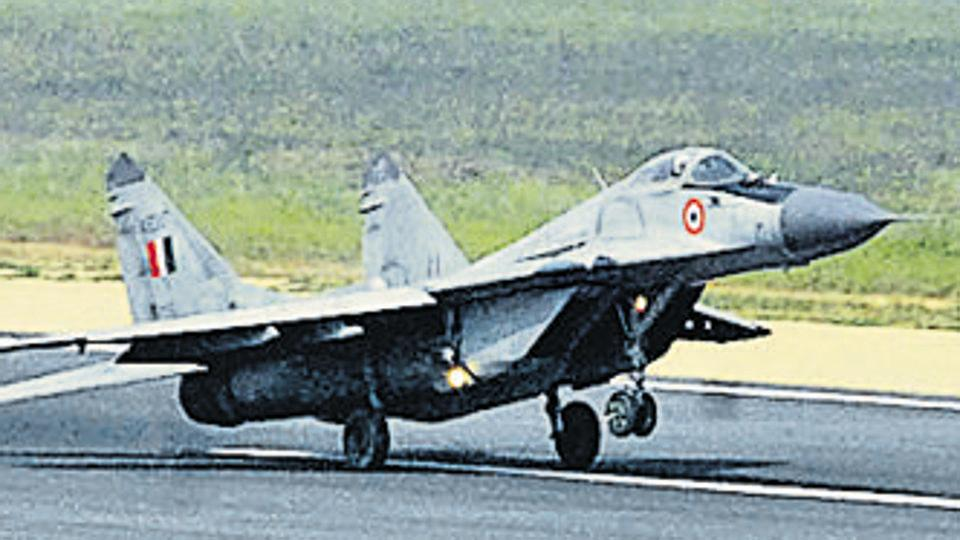Mig-29: (51, 75, 909, 453)
